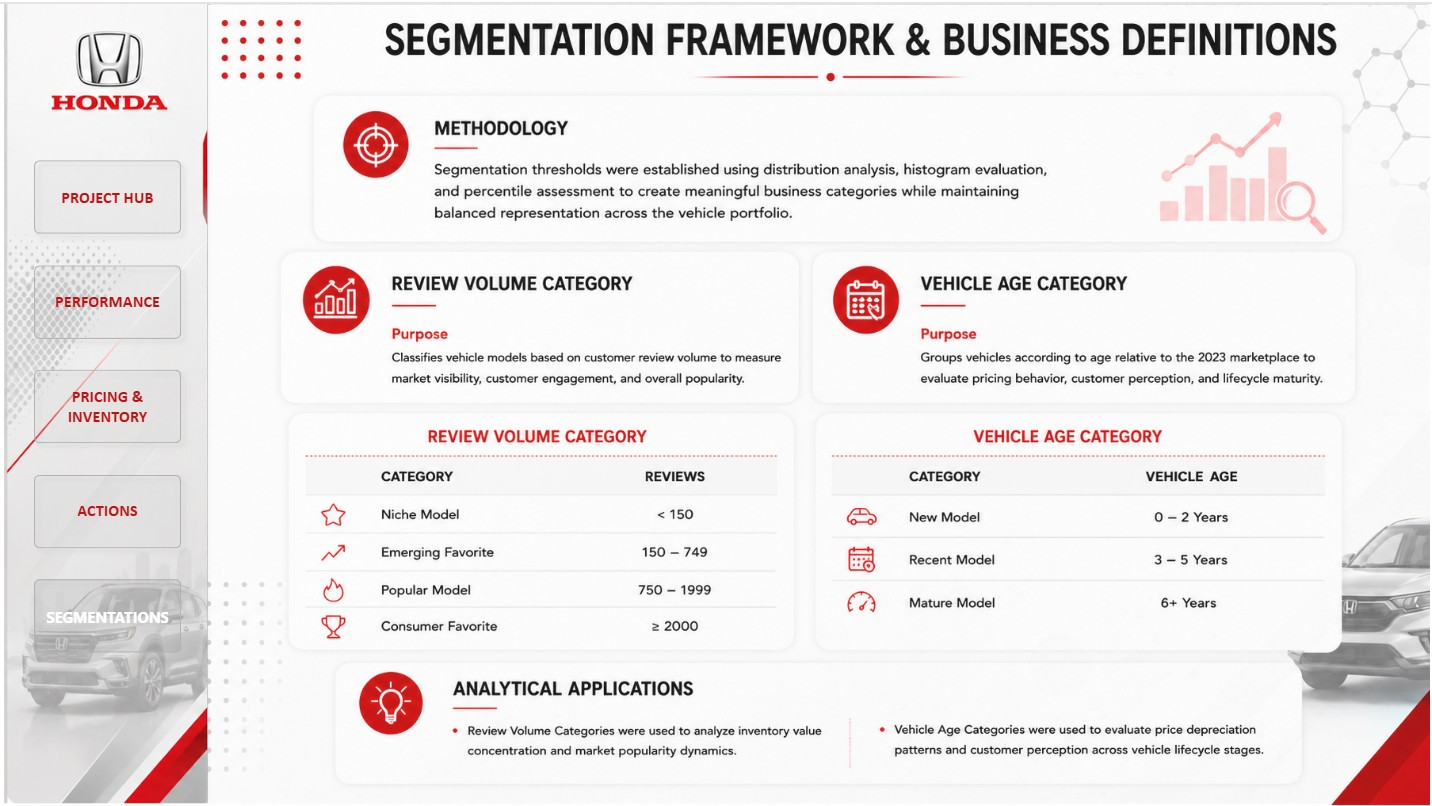

Layout of this report page (visuals, bound fields, positions):
{"tool":"powerbi","page":{"name":"SEGMENTATIONS","canvas":[1280,720],"ordinal":4},"visuals":[{"type":"image","box":[182.5,0,1097.8,720.4],"z":0},{"type":"pageNavigator","box":[17.8,131.7,150.9,462.4],"z":1}]}

Visuals, with their boxes in screenshot pixels (x1, y1, x2, y2), scaled from the page's 1280x720 canvas onto the 1432x806 screenshot:
image: 204, 0, 1431, 805
pageNavigator: 20, 147, 189, 665
